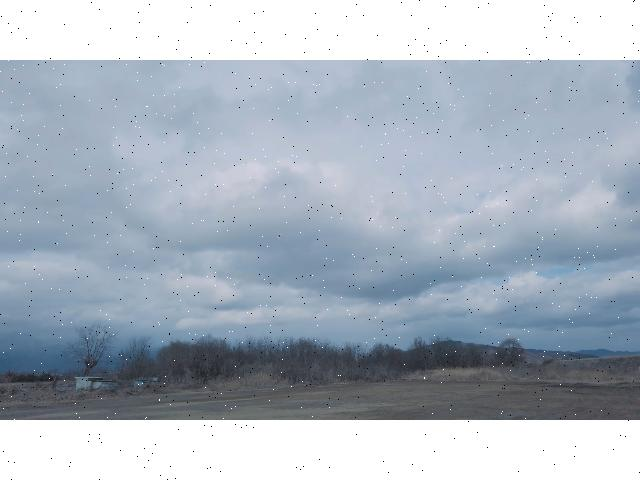Anti-Drone: (274, 231, 284, 241)
